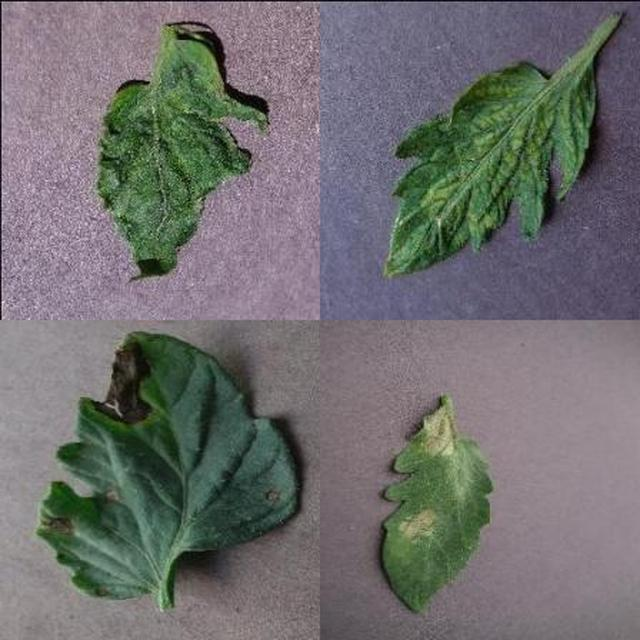Mosaic Virus Leaf: (160, 234, 640, 640)
